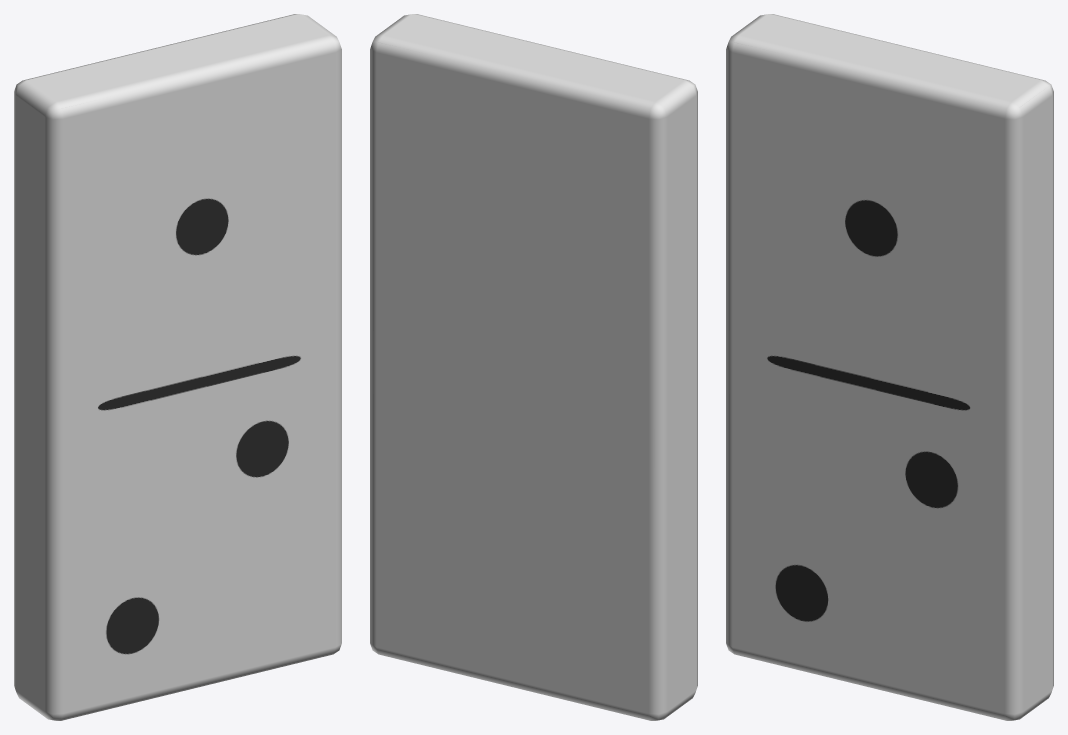
3 views of the same model, side by side, from view 1: azimuth 30°, elevation 25°; view 2: azimuth 150°, elevation 25°; view 3: azimuth 330°, elevation 25° (orthographic).
Parts seen in each view (by area): view 1: Low; view 2: Low; view 3: Low.
Boxes of the visible parts, <box> form: Low: <box>14,14,341,720</box>; Low: <box>370,14,697,720</box>; Low: <box>726,14,1053,720</box>.
Size of the model in its own units: 0.0254 by 0.0508 by 0.00635.
Materials: 1 (1 with a texture image).
